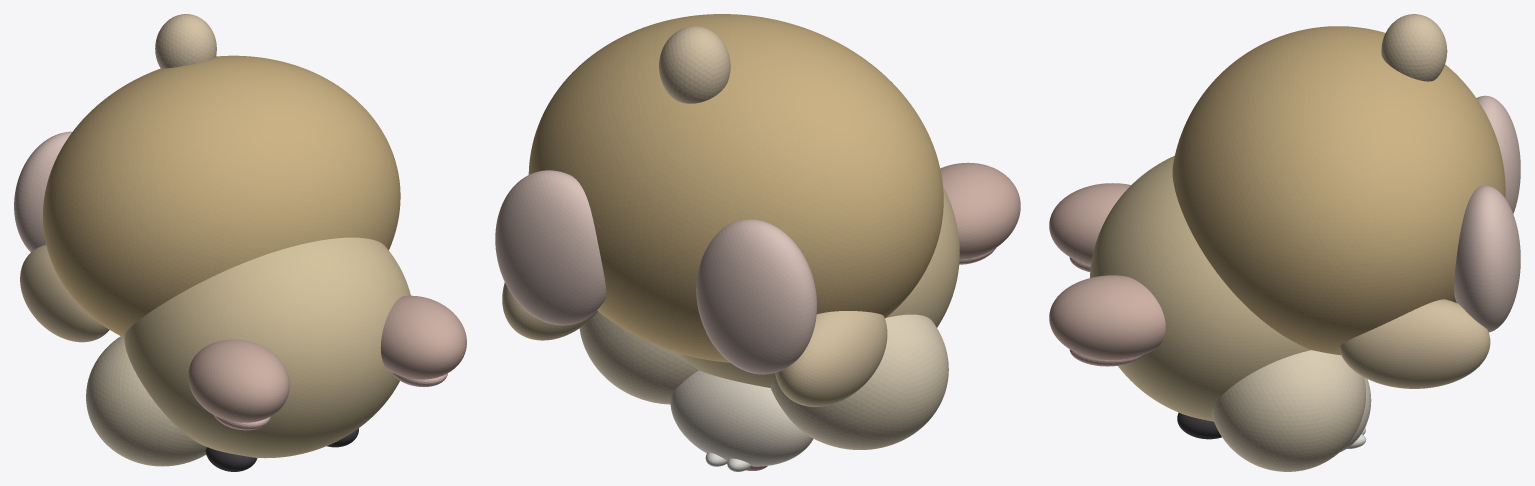
Rendered from ginger-v7.glb.
3 renders of one model, left to right at view 1: azimuth 30°, elevation 25°; view 2: azimuth 150°, elevation 25°; view 3: azimuth 270°, elevation 25°, orthographic. The views are drawn at different scales.
Parts seen in each view (by area): view 1: Body_soft_round, Head_soft_round, Cheek_L, Ear_L, Ear_R, Arm_L, Foot_L, Tail, Eye_L; view 2: Body_soft_round, Foot_L, Foot_R, Cheek_L, Muzzle, Arm_L, Cheek_R, Ear_L, Head_soft_round, Tail, Arm_R; view 3: Body_soft_round, Head_soft_round, Cheek_R, Arm_R, Ear_R, Foot_R, Ear_L, Tail, Foot_L, Eye_R.
Boxes of the visible parts, x1,y1,x2,y2 form: Body_soft_round: (43, 55, 400, 337); Head_soft_round: (124, 237, 410, 458); Cheek_L: (86, 336, 207, 466); Ear_L: (188, 339, 289, 422); Ear_R: (380, 295, 466, 379); Arm_L: (20, 245, 109, 342); Foot_L: (14, 131, 72, 252); Tail: (155, 14, 216, 68); Eye_L: (205, 447, 257, 471); Body_soft_round: (528, 14, 943, 362); Foot_L: (696, 219, 816, 374); Foot_R: (495, 170, 606, 325); Cheek_L: (770, 314, 948, 449); Muzzle: (670, 370, 813, 466); Arm_L: (775, 311, 887, 406); Cheek_R: (579, 311, 698, 404); Ear_L: (940, 162, 1020, 259); Head_soft_round: (681, 186, 959, 387); Tail: (659, 26, 730, 103); Arm_R: (502, 282, 597, 340); Body_soft_round: (1172, 26, 1505, 355); Head_soft_round: (1090, 155, 1311, 421); Cheek_R: (1211, 350, 1365, 471); Arm_R: (1339, 299, 1490, 388); Ear_R: (1049, 275, 1165, 360); Foot_R: (1454, 185, 1520, 332); Ear_L: (1049, 183, 1130, 265); Tail: (1381, 14, 1447, 81); Foot_L: (1476, 95, 1520, 213); Eye_R: (1177, 413, 1221, 439).
Size of the model in its own units: 1.56 by 1.92 by 1.86.
